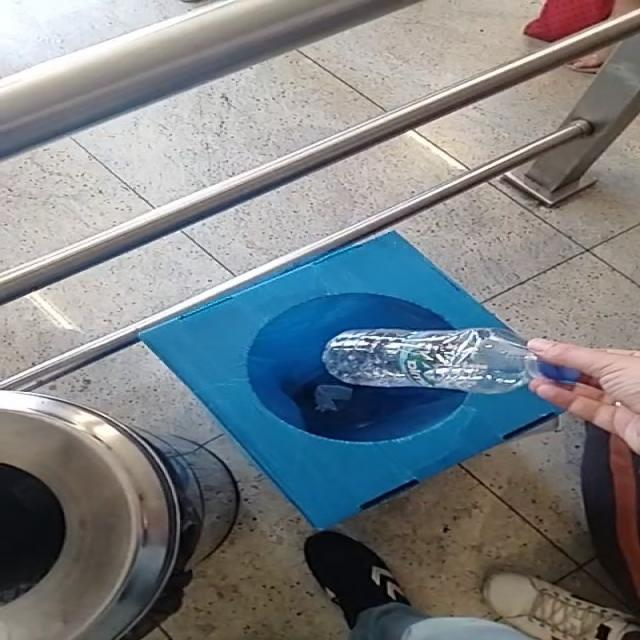plastic: (321, 330, 577, 394)
